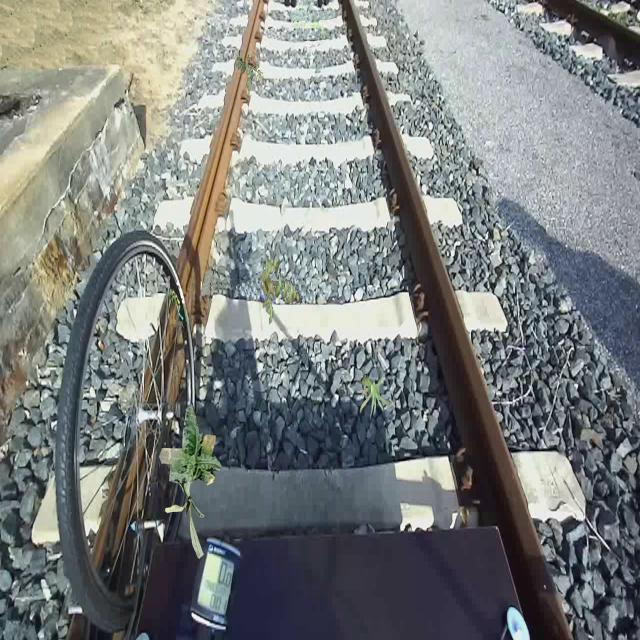Plant: (159, 403, 222, 486), (165, 450, 205, 560), (259, 253, 300, 324), (360, 374, 392, 420), (235, 51, 262, 92)
